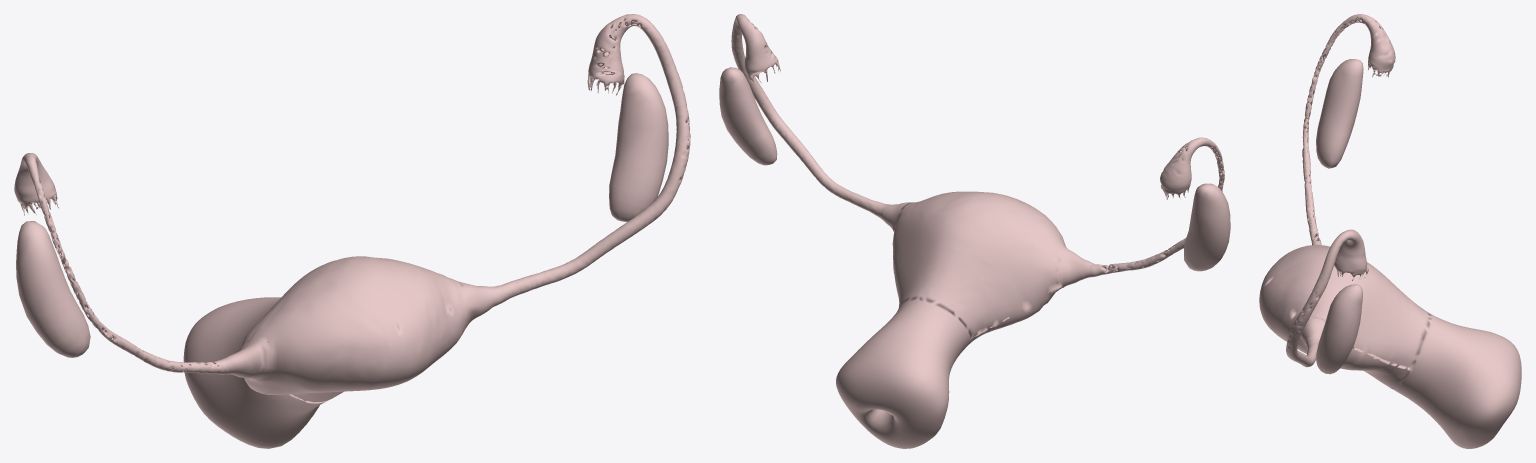
The model's file is reference-uterus.glb.
3 renders of one model, left to right at view 1: azimuth 30°, elevation 25°; view 2: azimuth 150°, elevation 25°; view 3: azimuth 270°, elevation 25°, orthographic. The views are drawn at different scales.
Visible parts, largest first — view 1: uterus; view 2: uterus; view 3: uterus.
Part boxes in pixels (<box>): uterus: <box>14,14,690,448</box>; uterus: <box>719,14,1230,448</box>; uterus: <box>1259,14,1521,448</box>.
Size of the model in its own units: 0.1274 by 0.0791 by 0.0587.
